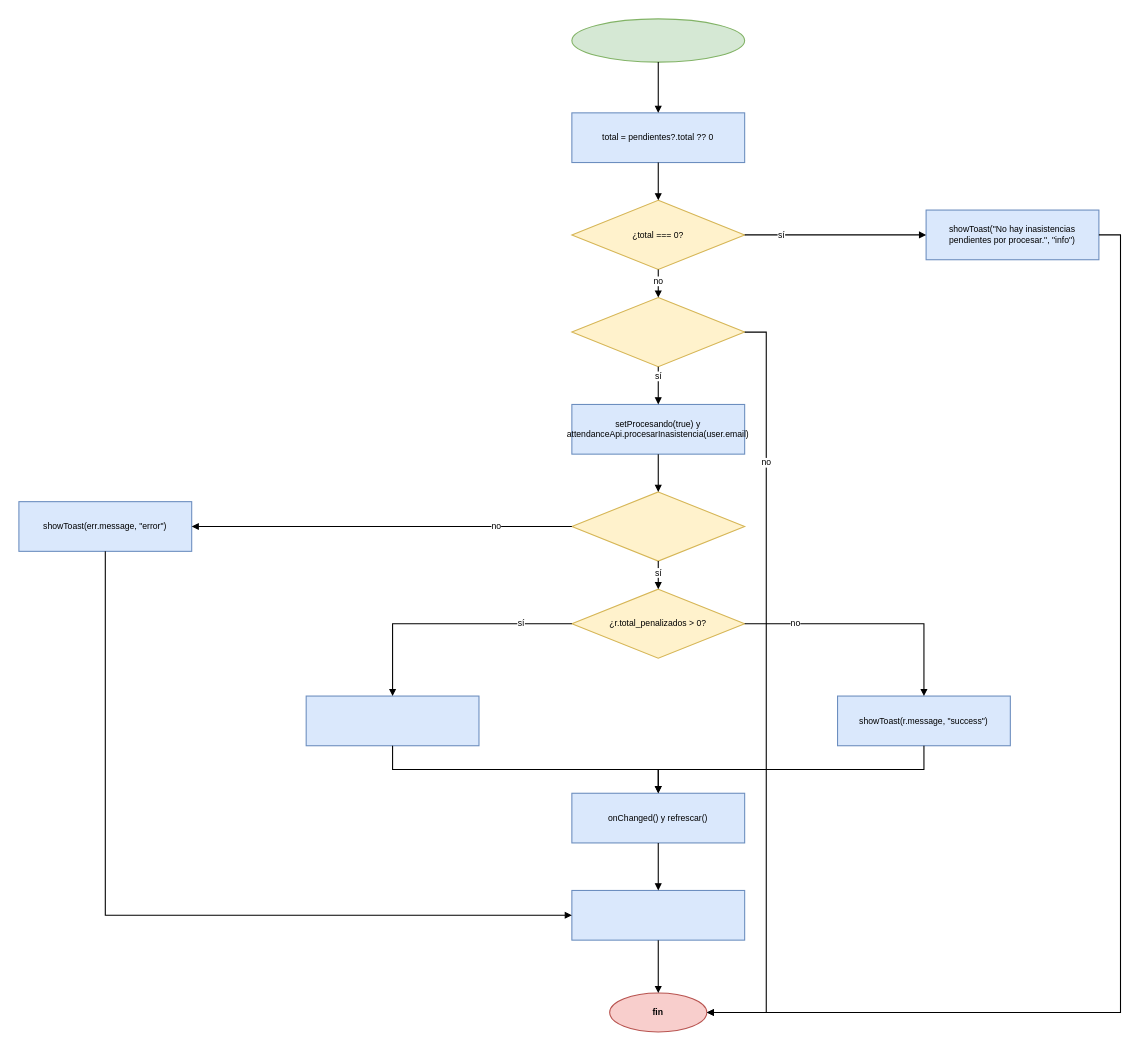
Image size: 1146x1051. Some labels were removed from this diagram. The shapes that lost their labels are listed below. From the top down, each one's centre as x and y in pixels, then its label:
pixel 658 40: inicio: clic en "Cerrar jornada"
pixel 658 331: ¿window.confirm(...) acepta?
pixel 658 526: ¿la petición respondió ok?
pixel 392 720: showToast(r.message, "warning")
pixel 658 914: finally: setProcesando(false)
